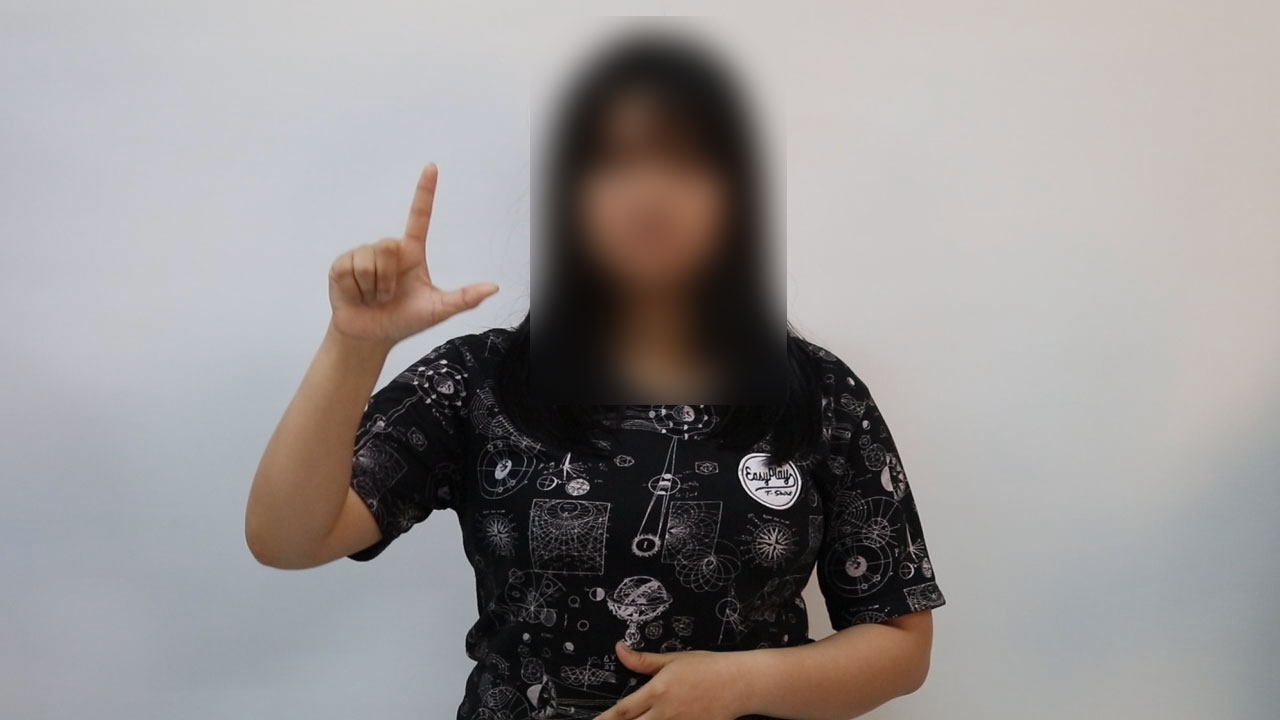lor: (316, 151, 512, 348)
